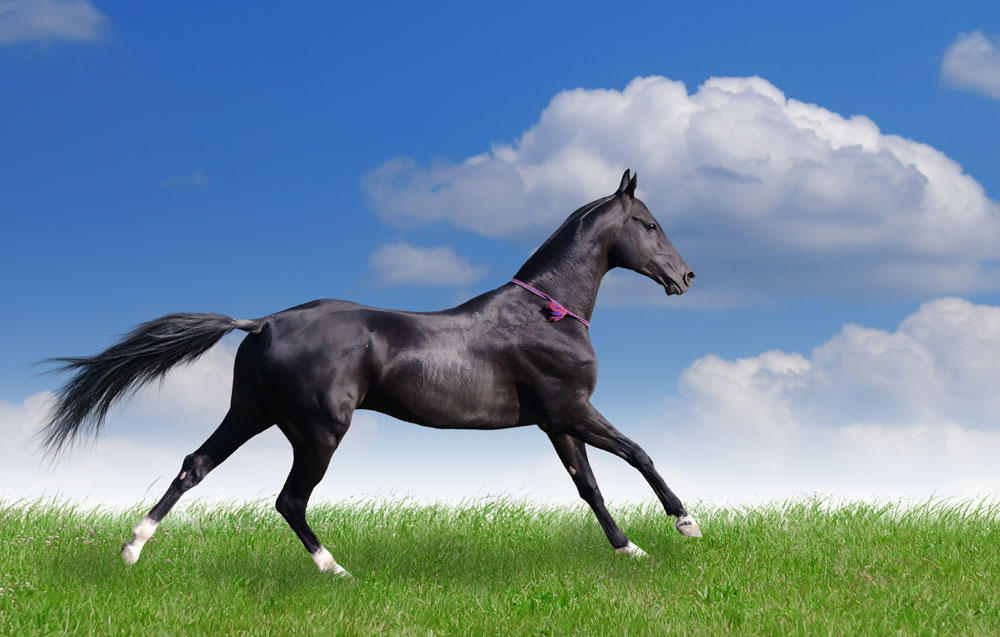horse: (23, 170, 705, 583)
